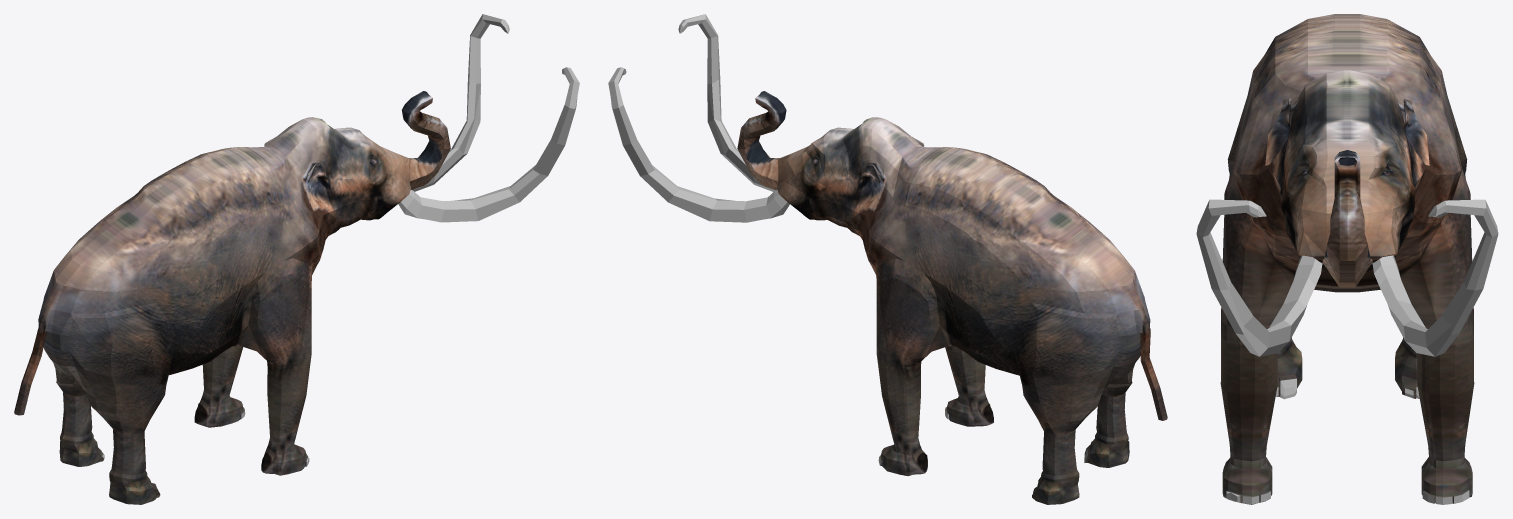
The model's file is COLUMBIS2.gltf.
3 renders of one model, left to right at view 1: azimuth 30°, elevation 25°; view 2: azimuth 150°, elevation 25°; view 3: azimuth 270°, elevation 25°, orthographic. The views are drawn at different scales.
Visible parts, largest first — view 1: Plane; view 2: Plane; view 3: Plane.
Boxes of the visible parts, x1,y1,x2,y2 form: Plane: [14, 14, 579, 504]; Plane: [608, 14, 1167, 504]; Plane: [1196, 14, 1498, 504].
Size of the model in its own units: 14.87 by 9.04 by 4.95.
Materials: 3 (1 with a texture image).
